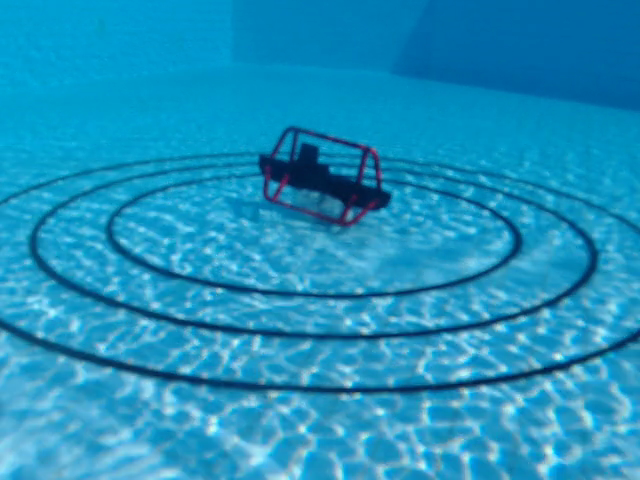submarine: (257, 126, 393, 229)
